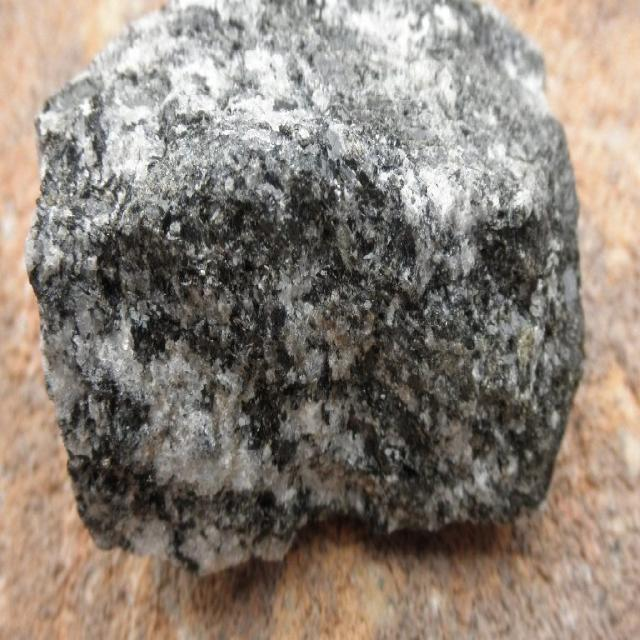Igneous: (24, 10, 612, 598)
